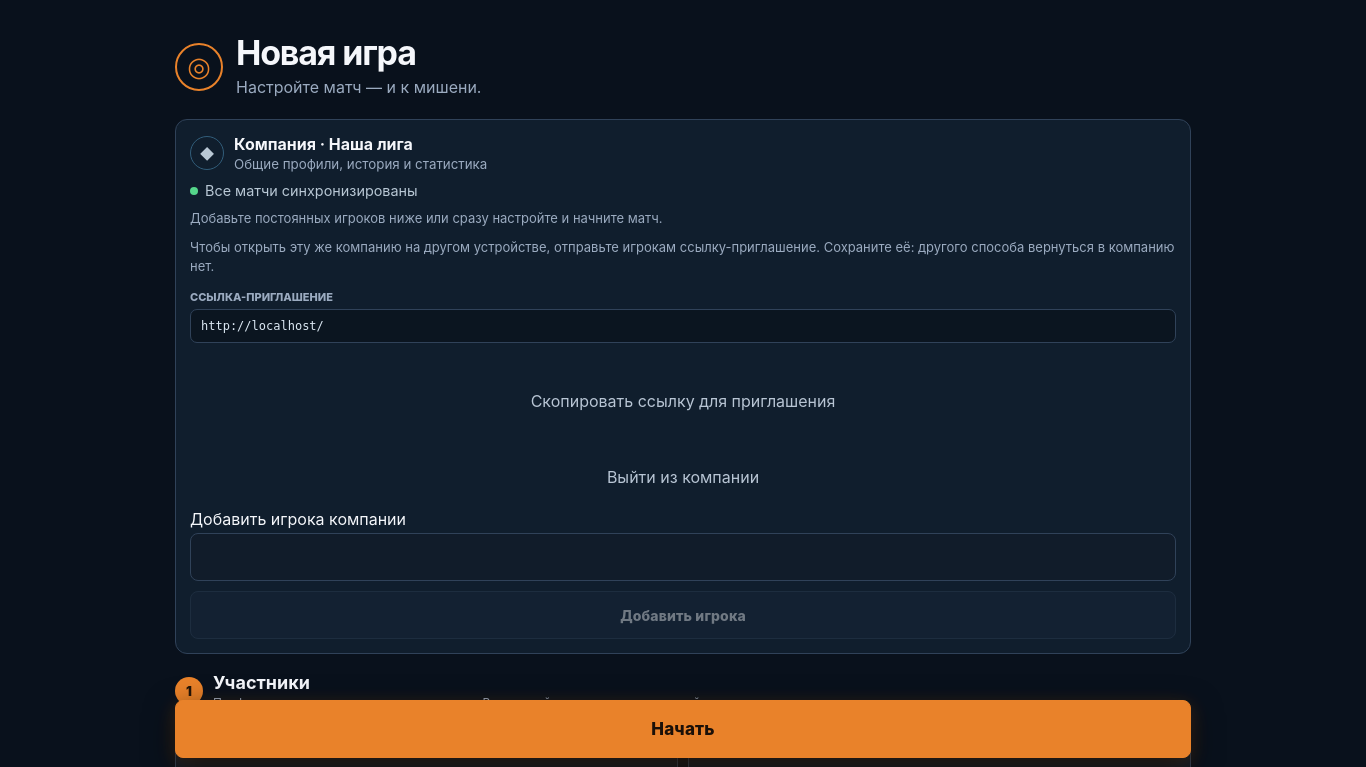
Test: setup page reports failures instead of swallowing them (CLI-2) › shows why a company player could not be added
Type "Миша" into the field labelled "Добавить игрока компании".
click(683, 557); type("Миша")  # box [190, 533, 1176, 581]
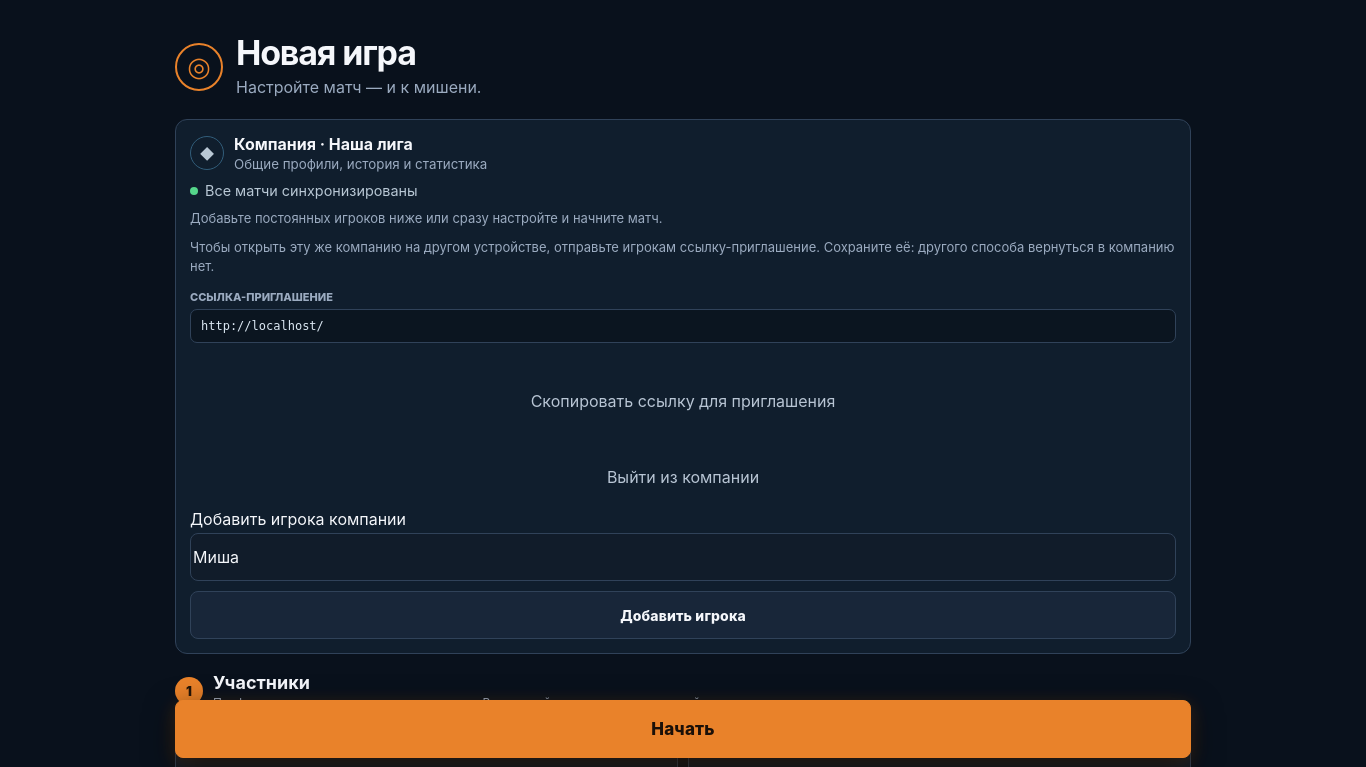
Click the button "Добавить игрока".
click(683, 615)  # box [190, 591, 1176, 639]
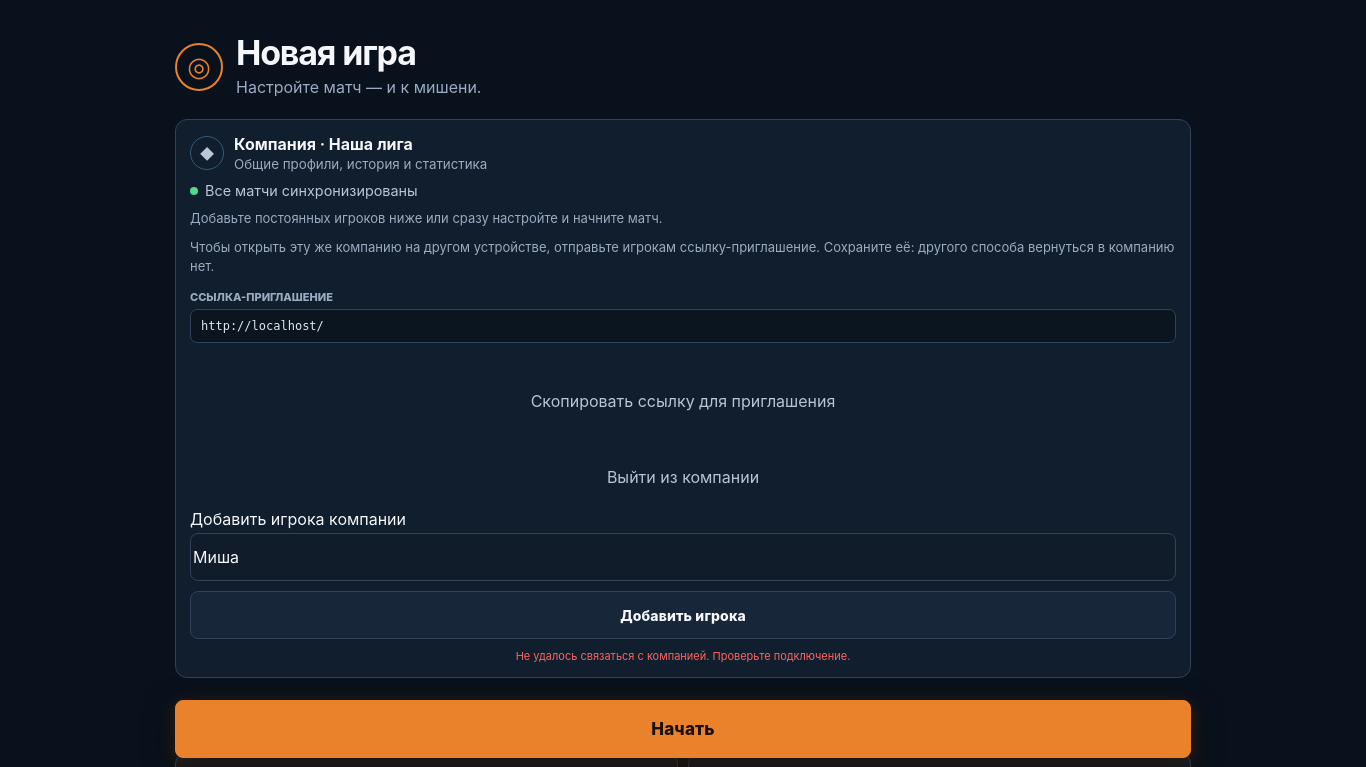
Check: the message "Не удалось связаться с компанией. Проверьте подключение." is shown, box [516, 649, 850, 663]
